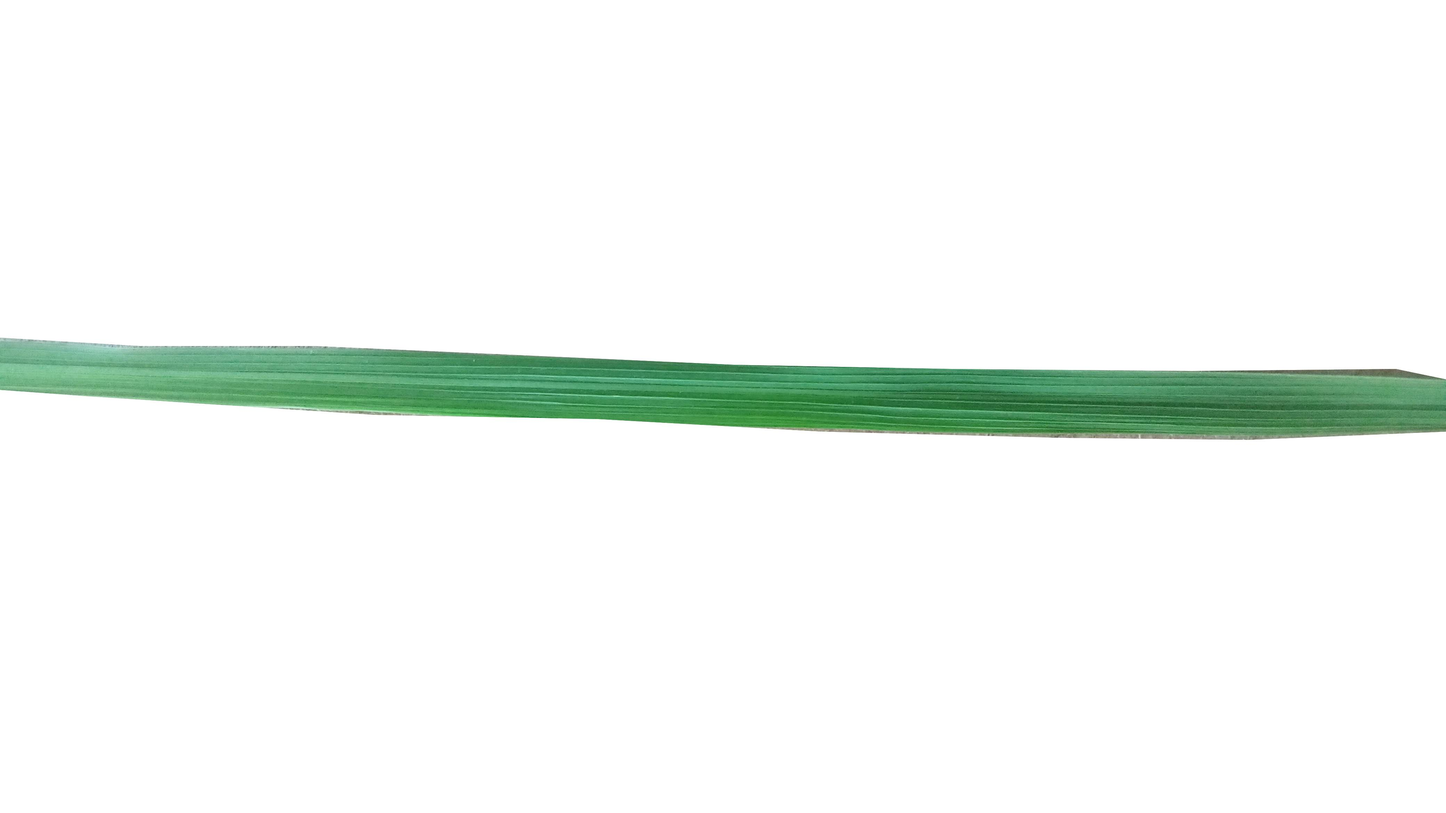Healthy: (0, 344, 1446, 443)
